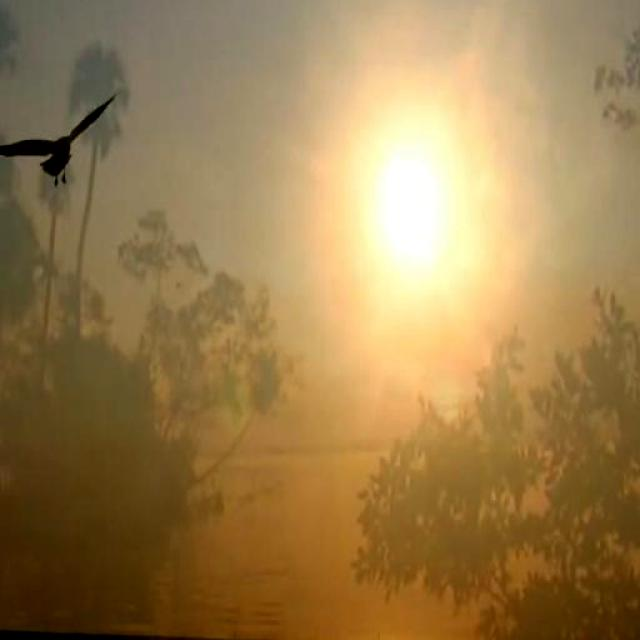airplane: (0, 90, 124, 204)
